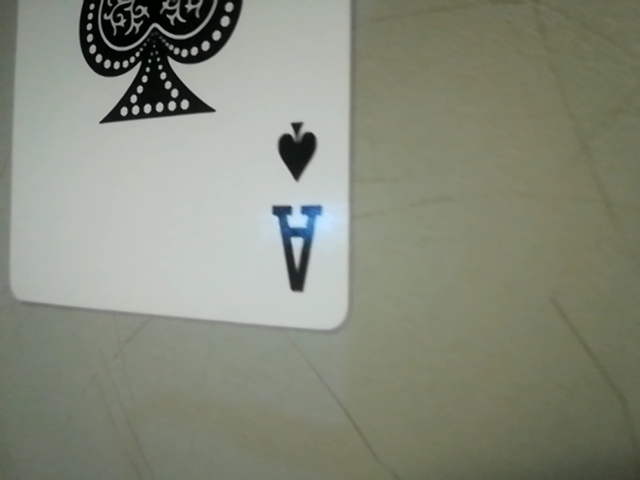ht a: (257, 91, 340, 315)
